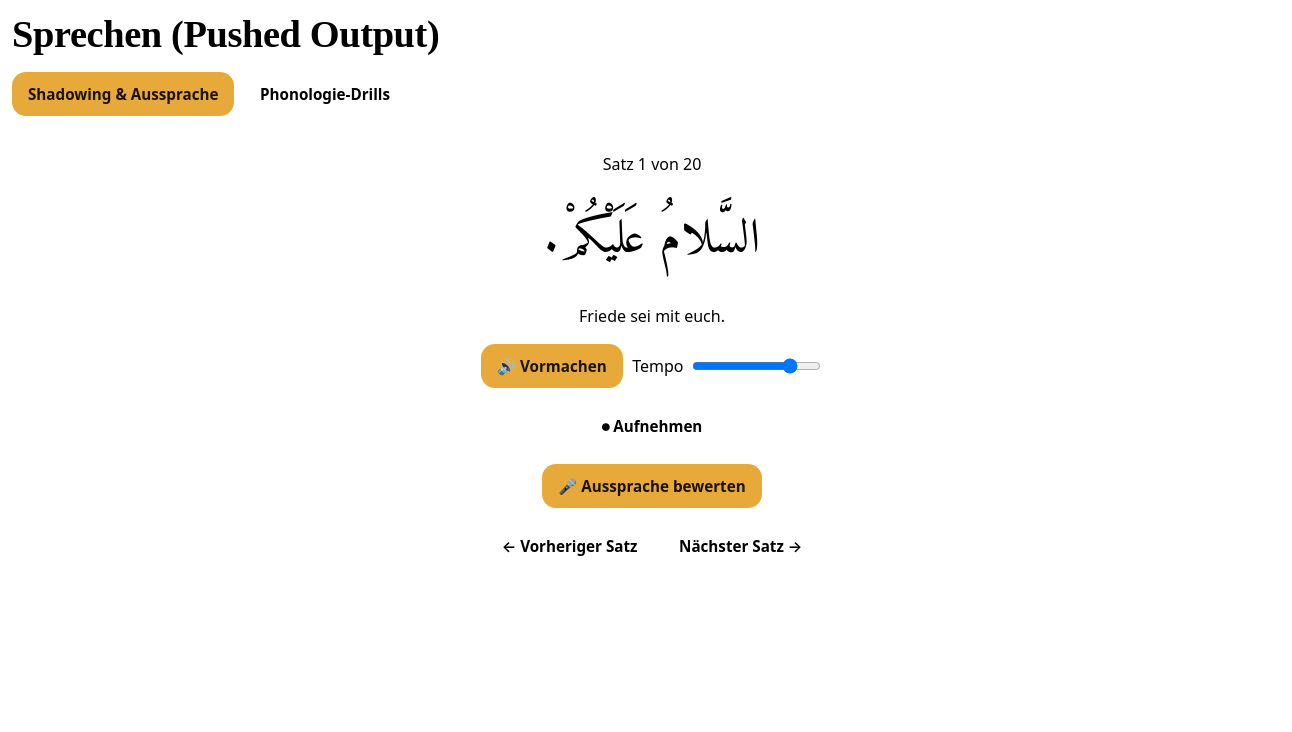
it: Speaking (integration, iPhone) › shows instructions when iOS denies speech recognition
The width and height of the screenshot is (1292, 732).
Click the button "🎤 Aussprache bewerten" at (652, 486), box [542,464,762,508]
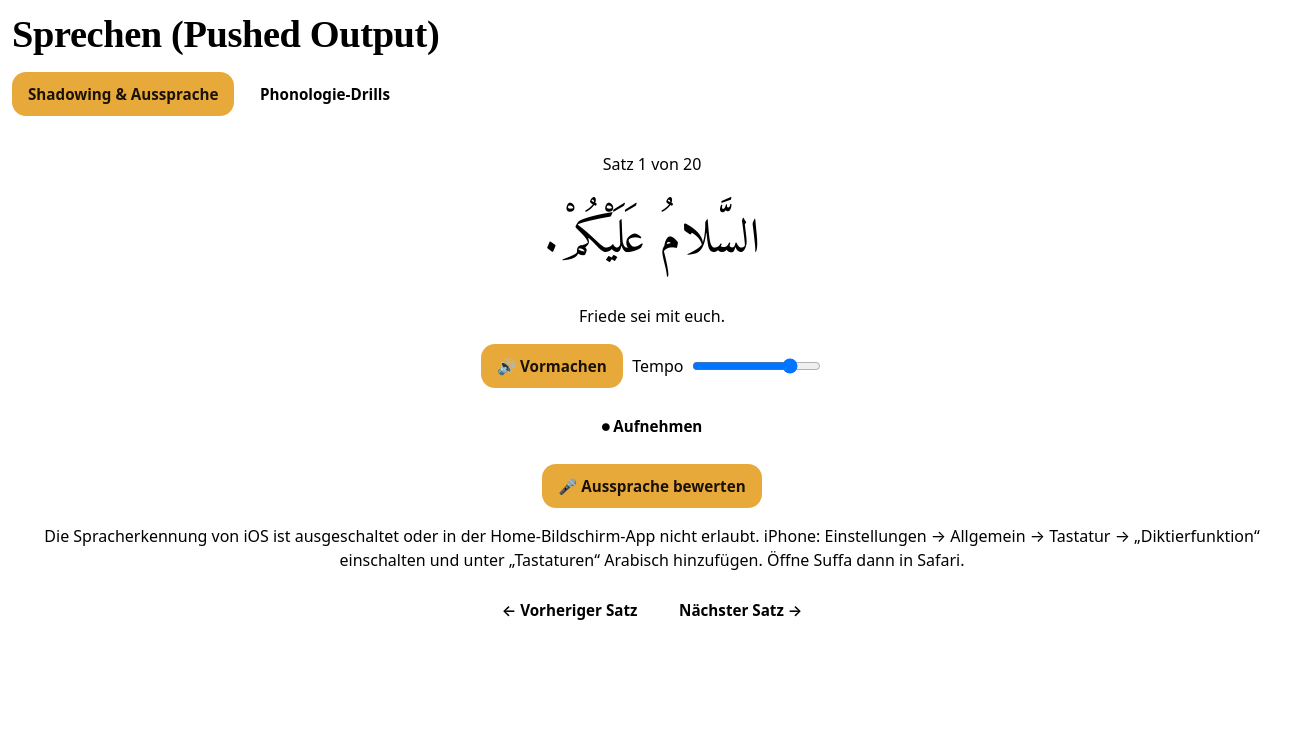
Check: the message shows "Diktierfunktion", box [44,525,1260,571]
